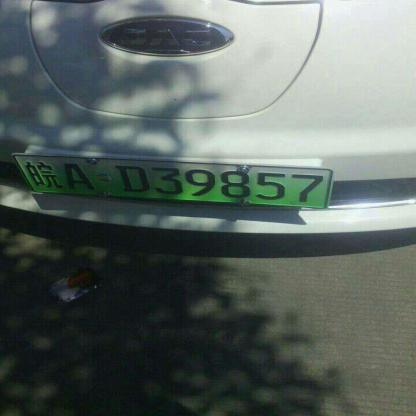lp: (17, 153, 38, 212)
